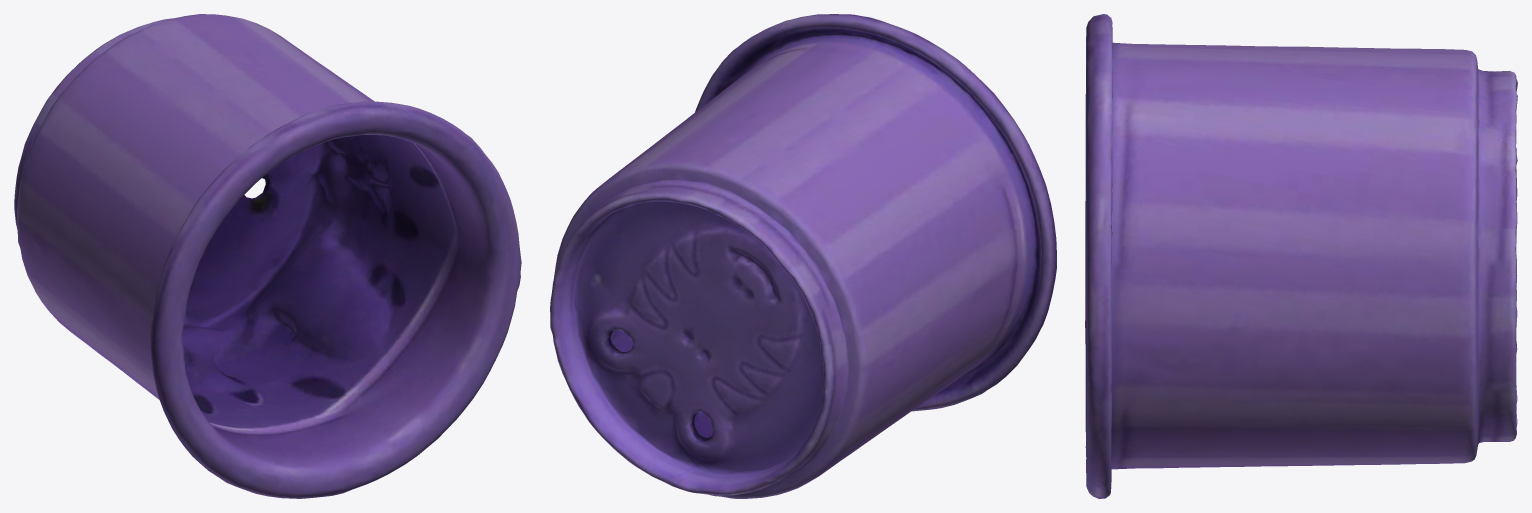
File: ddg-ycb_065-f_cups.glb
The picture shows the model from 3 angles, left to right: view 1: azimuth 30°, elevation 25°; view 2: azimuth 150°, elevation 25°; view 3: azimuth 270°, elevation 25°; orthographic projection. The views are drawn at different scales.
Visible parts, largest first — view 1: textured(Clone); view 2: textured(Clone); view 3: textured(Clone).
Boxes of the visible parts, x1=… form: textured(Clone): x1=14, y1=14, x2=521, y2=498; textured(Clone): x1=550, y1=14, x2=1056, y2=498; textured(Clone): x1=1085, y1=14, x2=1517, y2=498.
Size of the model in its own units: 1.5 by 1.5 by 1.34.
1 material, 1 textured.
